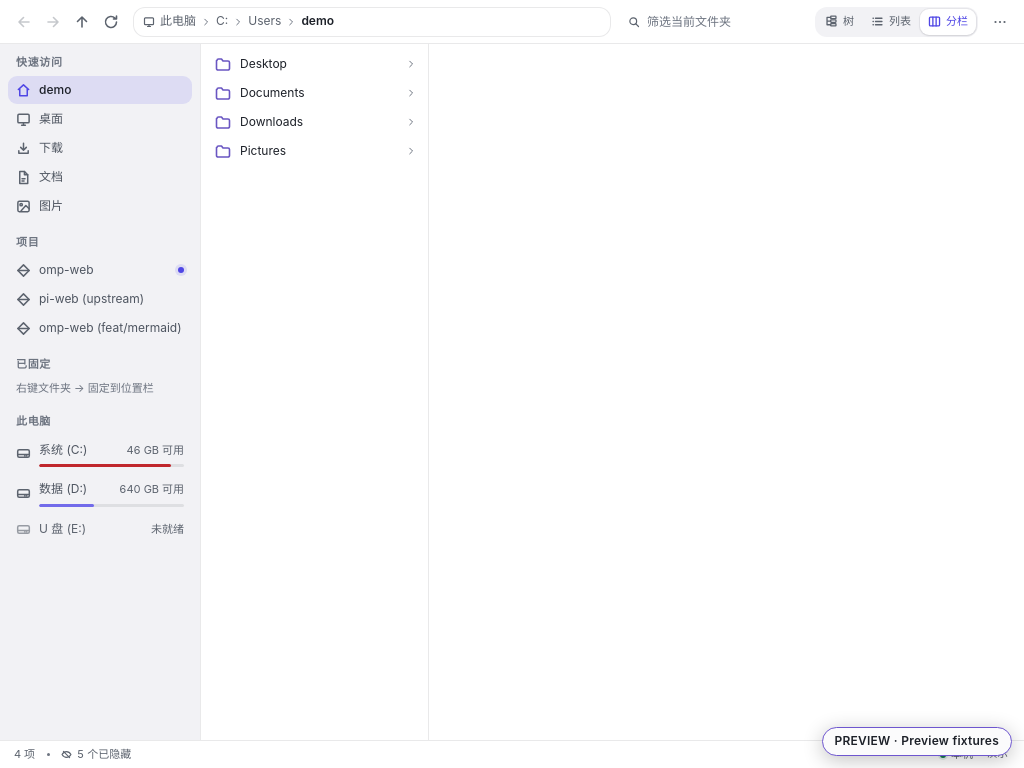
Scenario: file browser › keeps a column folder selected for F2 and allows keyboard navigation into its children
Check: the text "Desktop" is shown, box [240,55,287,73]
Click the option "Desktop" at (263, 63), box [215,56,416,72]
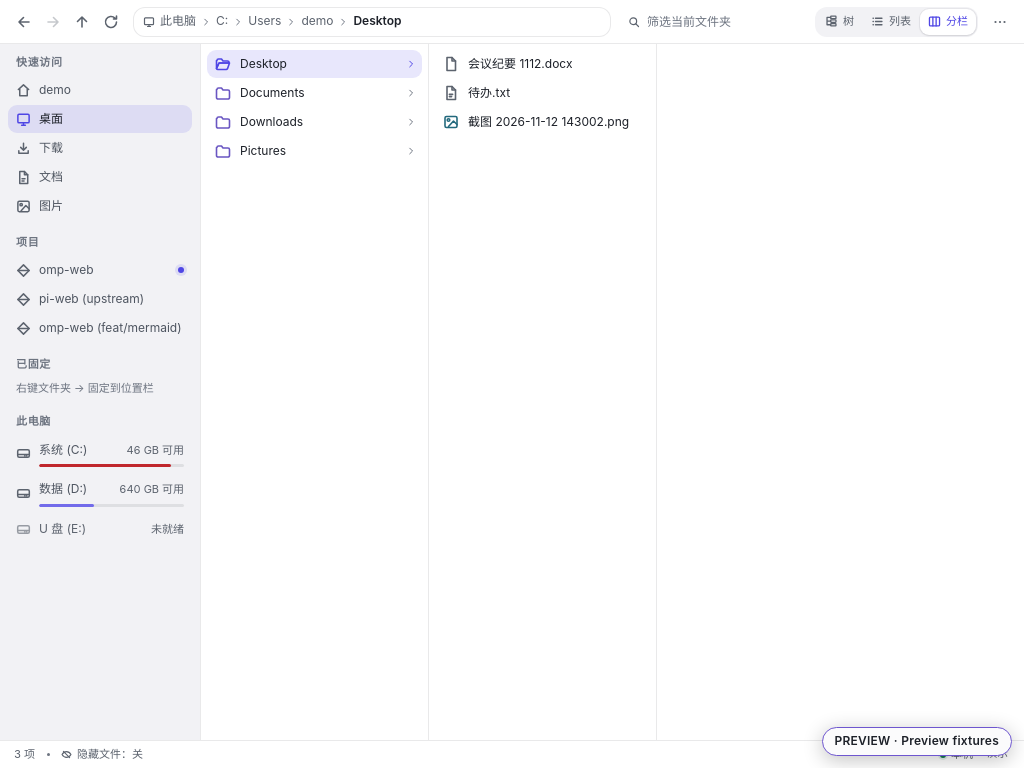
Check: the text "待办.txt" is shown, box [468,84,510,102]
Press F2 in the option "Desktop", box [207,50,422,78]
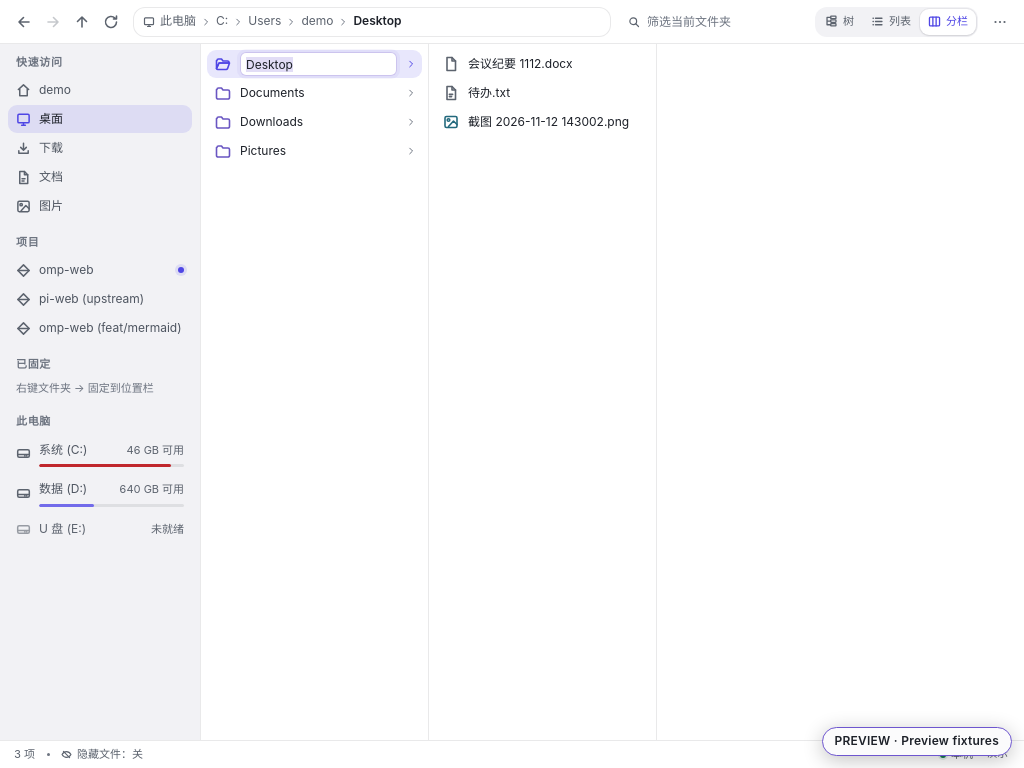
Check: the field named "新名称" holds "Desktop"
Press Escape in the field named "新名称", box [240,52,397,76]
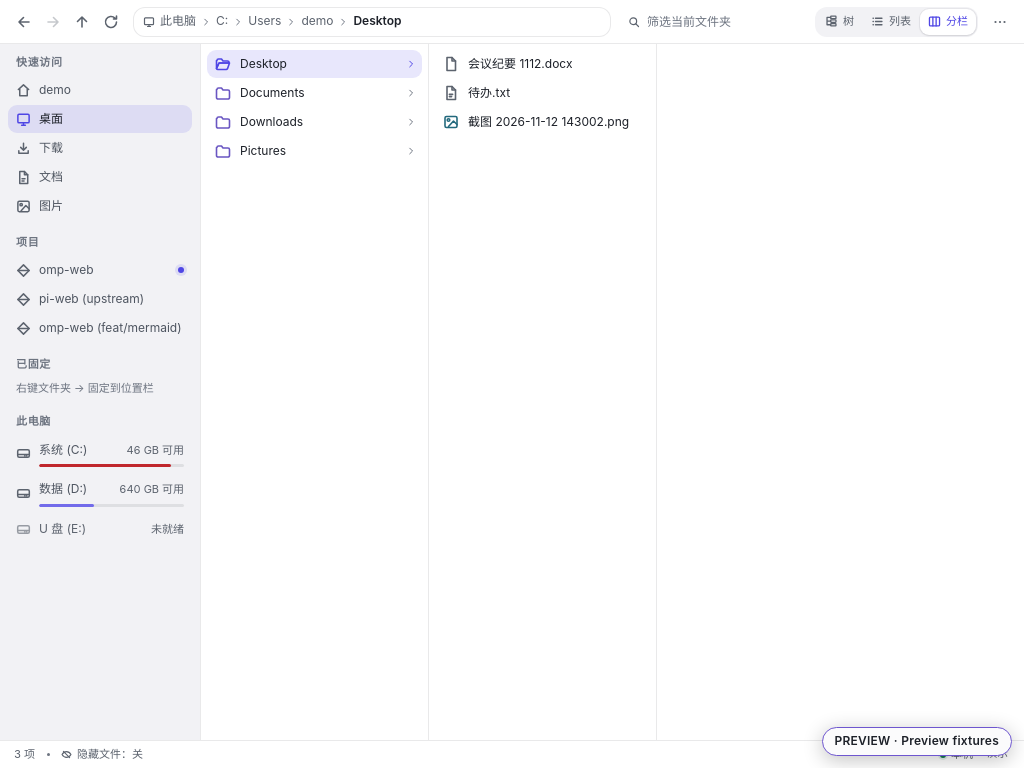
Press ArrowDown in the option "Desktop", box [207,50,422,78]
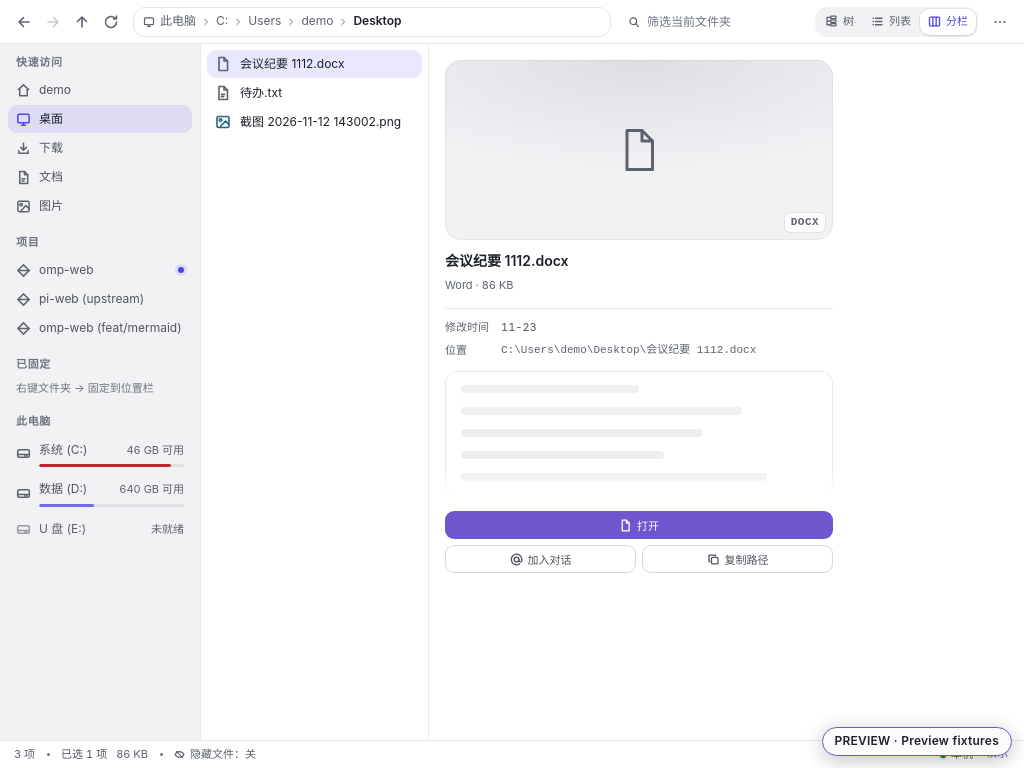
Check: the option "会议纪要 1112.docx" is selected, box [207,50,422,78]
Press ArrowLeft in the option "待办.txt", box [215,85,282,101]
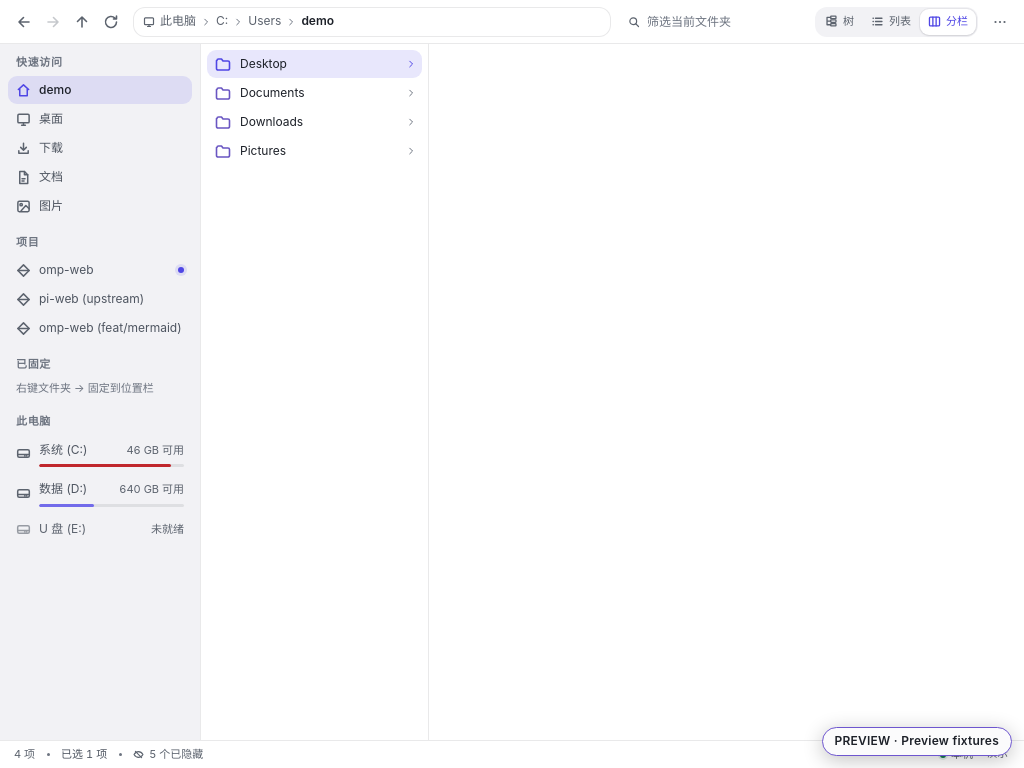
Check: the 1st button with class "is-current" reads "demo", box [295,10,340,34]
Press ArrowRight in the option "Desktop", box [207,50,422,78]
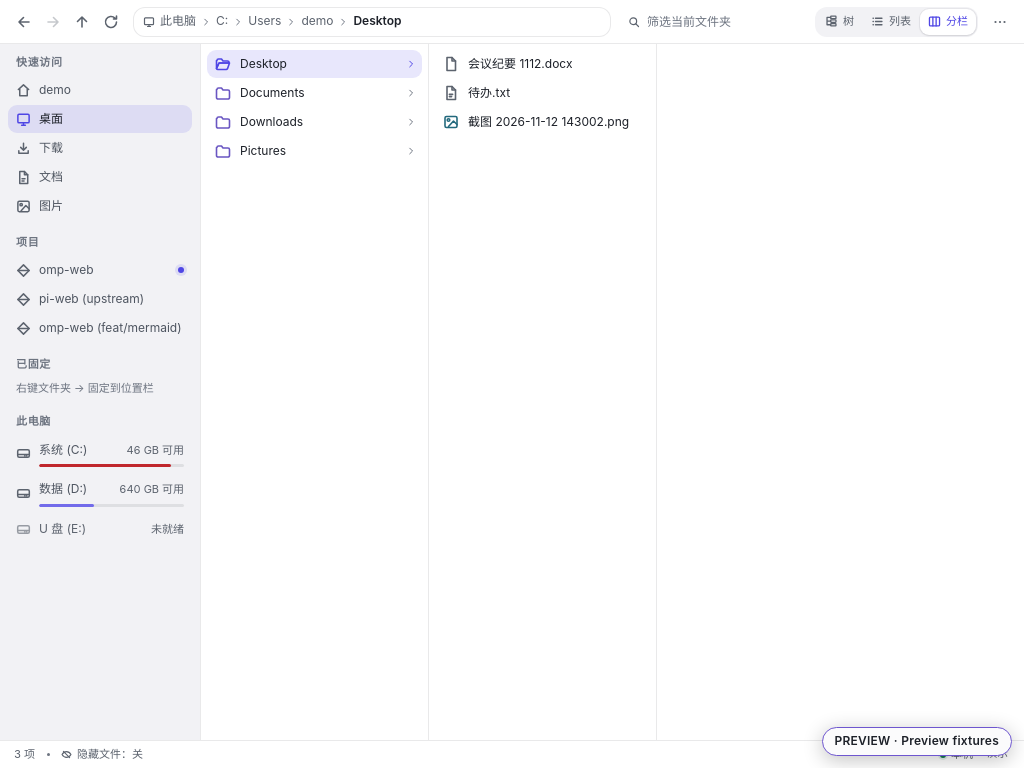
Check: the text "待办.txt" is shown, box [468,84,510,102]
